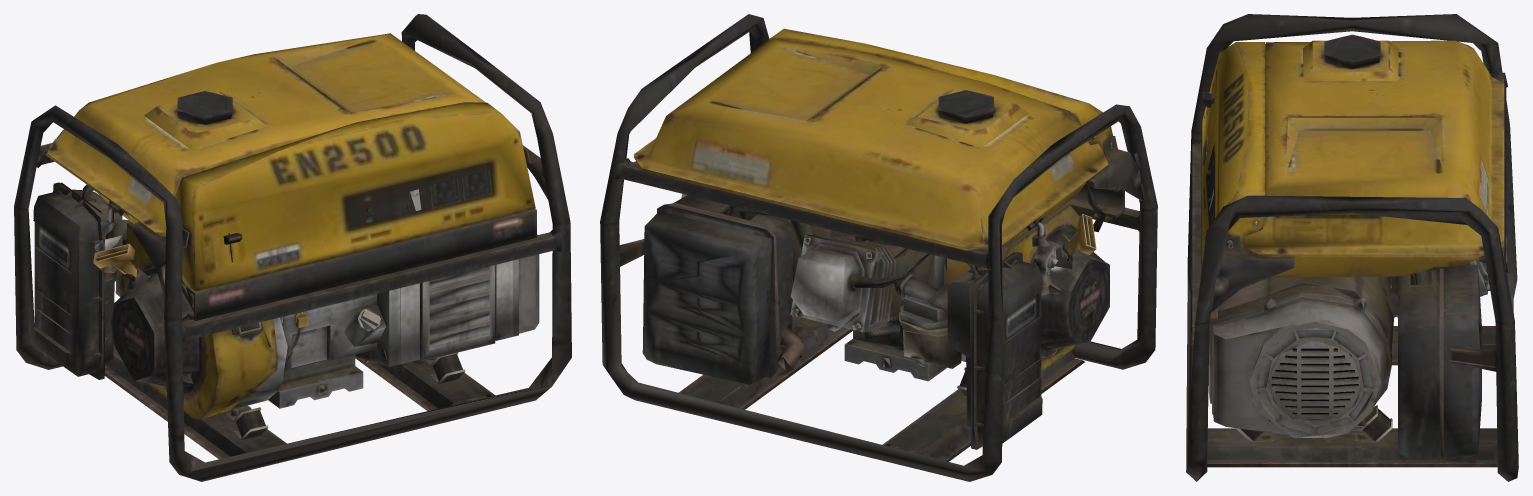
Rendered from generator.glb.
3 views of the same model, side by side, from view 1: azimuth 30°, elevation 25°; view 2: azimuth 150°, elevation 25°; view 3: azimuth 270°, elevation 25° (orthographic).
Visible parts, largest first — view 1: portable_generator; view 2: portable_generator; view 3: portable_generator.
Boxes of the visible parts, x1,y1,x2,y2 form: portable_generator: (14,14,571,481); portable_generator: (600,14,1157,481); portable_generator: (1186,14,1518,481).
Bounding box in the file's own units: 0.8146 × 0.5752 × 0.564.
Materials: 2 (2 with a texture image).
